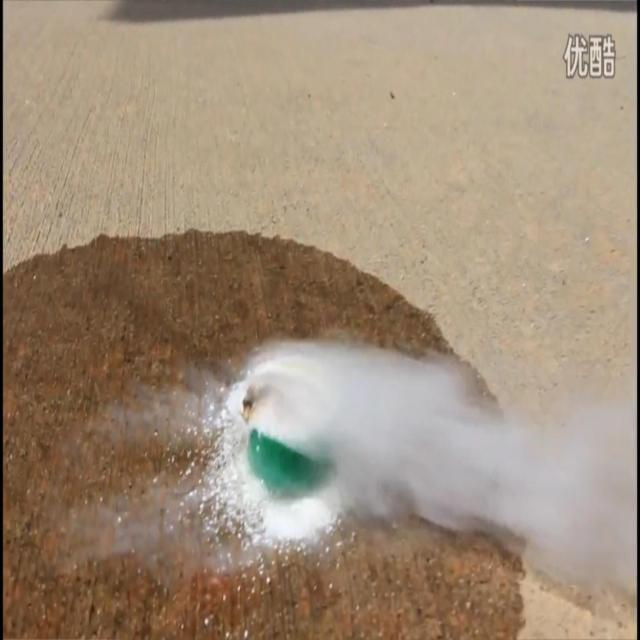Smoke: (248, 335, 636, 592)
